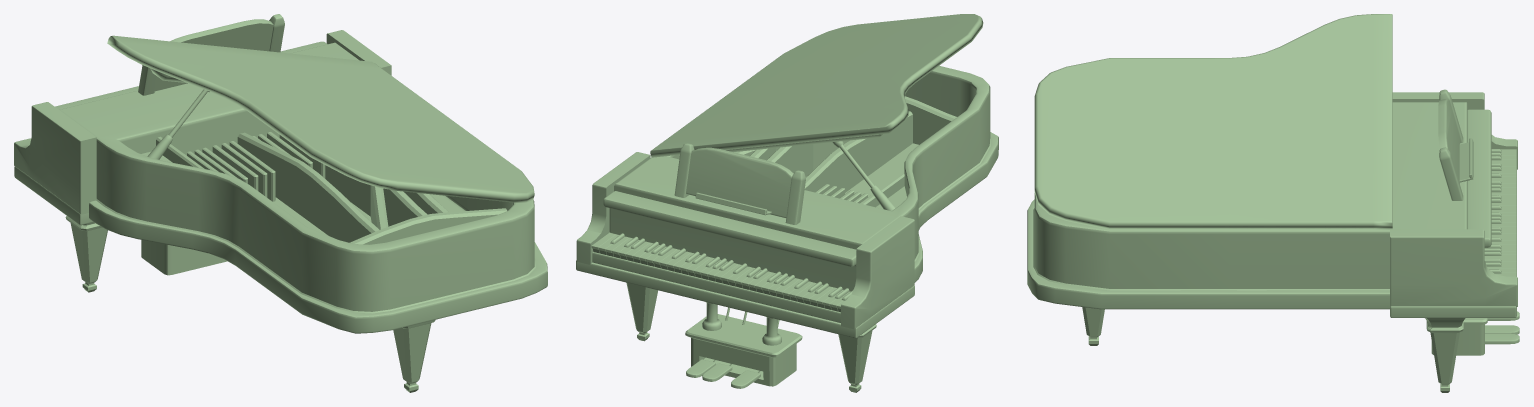
Rendered from PIANO_PROP.FBX.
3 views of the same model, side by side, from view 1: azimuth 30°, elevation 25°; view 2: azimuth 150°, elevation 25°; view 3: azimuth 270°, elevation 25° (orthographic). The views are drawn at different scales.
Parts seen in each view (by area): view 1: polySurface100; view 2: polySurface100; view 3: polySurface100.
Boxes of the visible parts, x1,y1,x2,y2 form: polySurface100: (14,14,547,392); polySurface100: (576,14,998,392); polySurface100: (1027,14,1519,392).
Bounding box in the file's own units: 3.12 × 2.63 × 4.45.
